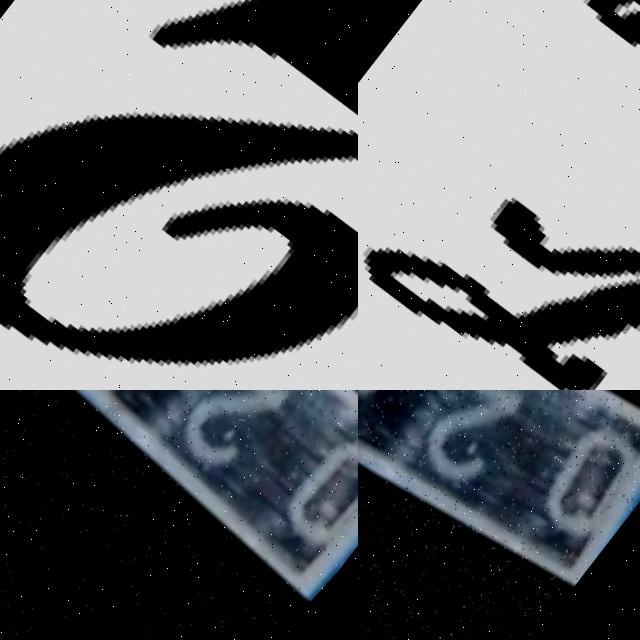0: (503, 397, 640, 584), (250, 410, 358, 592)
2: (0, 0, 358, 390), (389, 390, 553, 518), (155, 390, 313, 502)
K: (446, 0, 640, 390)
